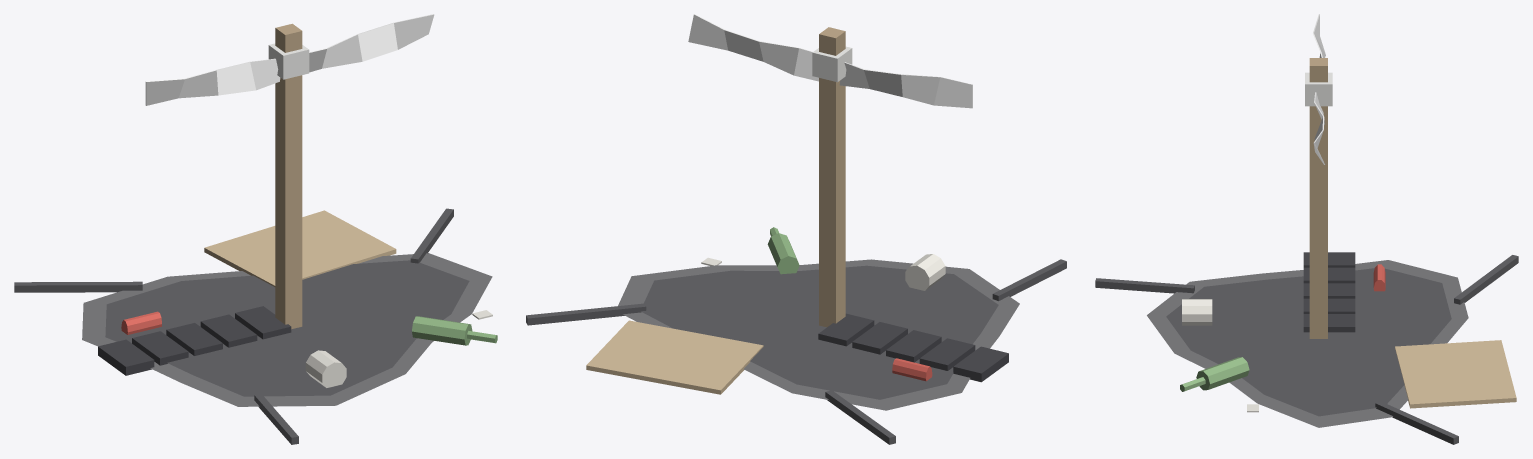
Rendered from trackside.glb.
3 views of the same model, side by side, from view 1: azimuth 30°, elevation 25°; view 2: azimuth 150°, elevation 25°; view 3: azimuth 270°, elevation 25° (orthographic). The views are drawn at different scales.
Visible parts, largest first — view 1: ts_patch_mesh, ts_litter_mesh, ts_stake_mesh, ts_tape_mesh; view 2: ts_patch_mesh, ts_litter_mesh, ts_stake_mesh, ts_tape_mesh; view 3: ts_patch_mesh, ts_litter_mesh, ts_stake_mesh, ts_tape_mesh.
Boxes of the visible parts, <box> form: ts_patch_mesh: <box>14,208,492,444</box>; ts_litter_mesh: <box>98,210,497,387</box>; ts_stake_mesh: <box>268,23,309,329</box>; ts_tape_mesh: <box>145,14,434,105</box>; ts_patch_mesh: <box>526,259,1066,444</box>; ts_litter_mesh: <box>586,227,1008,394</box>; ts_stake_mesh: <box>812,27,852,327</box>; ts_tape_mesh: <box>688,14,972,108</box>; ts_patch_mesh: <box>1095,255,1518,444</box>; ts_litter_mesh: <box>1180,252,1516,412</box>; ts_stake_mesh: <box>1305,58,1332,338</box>; ts_tape_mesh: <box>1313,14,1325,164</box>.
Size of the model in its own units: 1.43 by 1.2 by 1.39.
